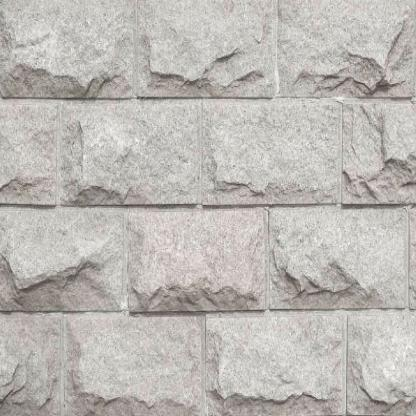Metamorphic_Marble: (260, 195, 414, 322), (52, 87, 203, 216), (0, 189, 134, 324), (196, 94, 346, 211), (122, 200, 274, 314), (59, 304, 210, 415), (123, 0, 283, 102), (200, 304, 345, 415), (0, 0, 144, 107), (271, 9, 415, 107)
